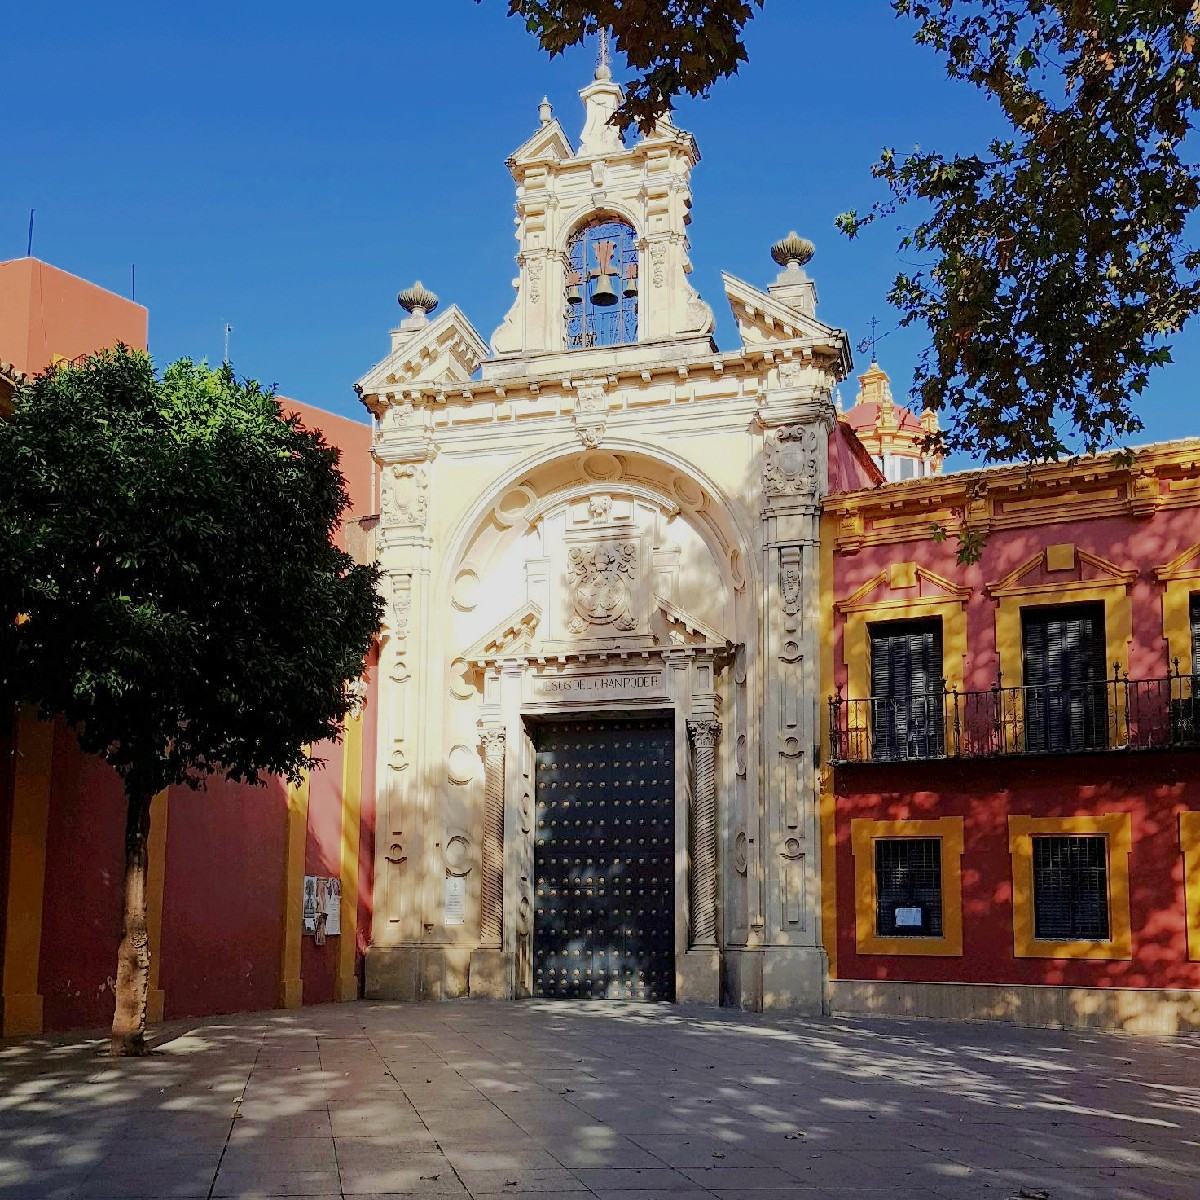arco-medio-punto: (433, 427, 758, 632), (557, 203, 648, 268)
fronton-partido: (349, 267, 851, 414), (454, 595, 738, 674)
vano-adintelado: (505, 669, 701, 1023)
